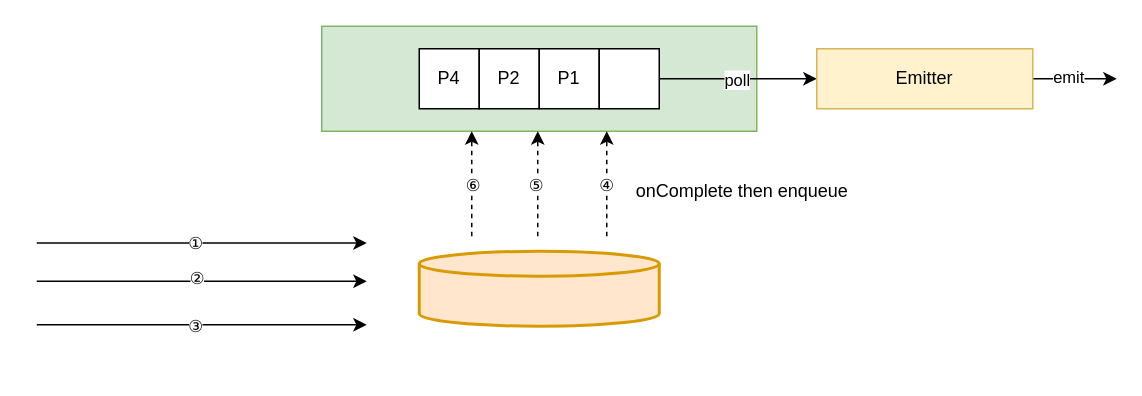
The diagram is 1142 pixels wide and 396 high, and some of its shapes have lost their labels. Here are the shapes that lost their labels. From the top down, the box of each, then its label:
(598, 47, 659, 109): P3
(417, 249, 660, 327): DataBase
